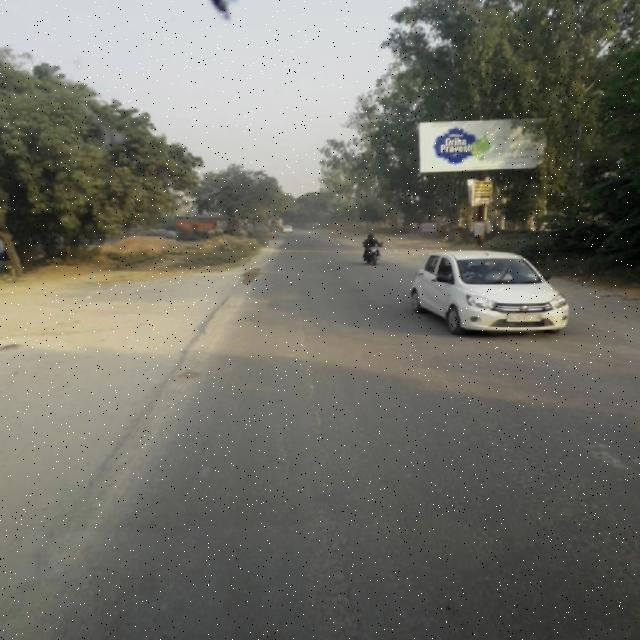D00: (288, 292, 332, 428)
D20: (484, 406, 638, 610), (294, 468, 372, 634)
